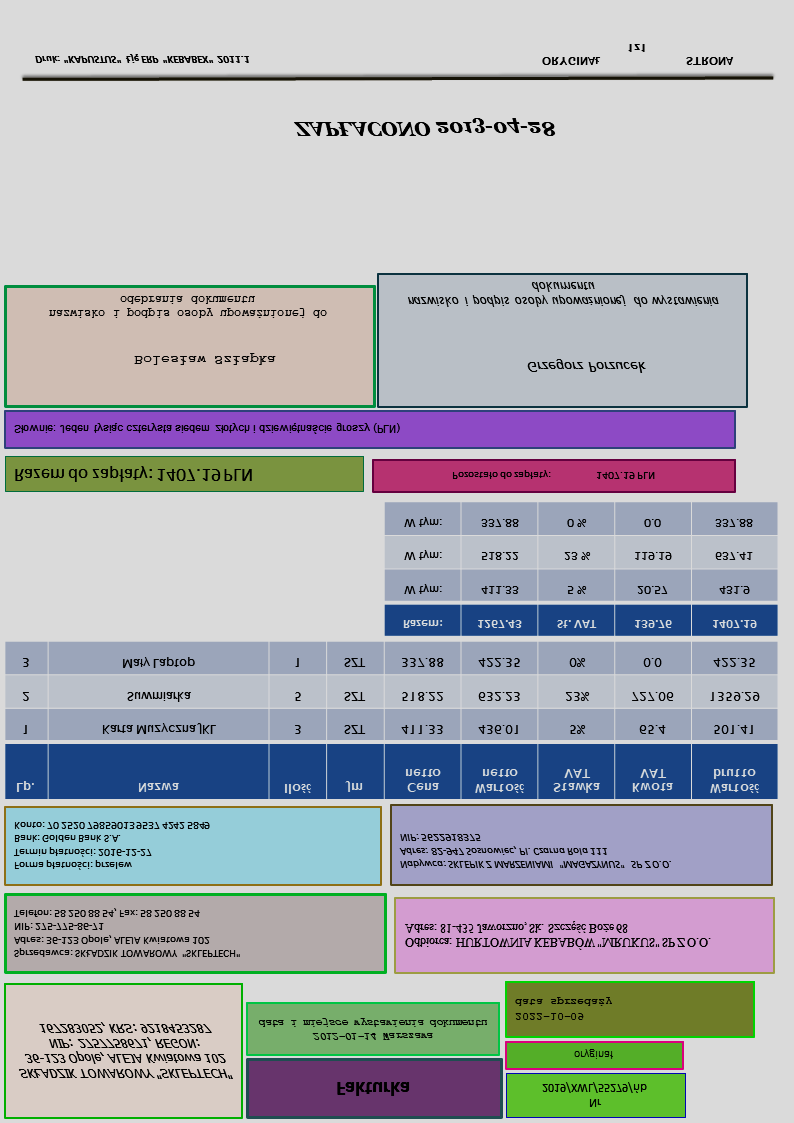Table: (3, 639, 778, 802), (383, 500, 780, 640)
TextBox: (16, 1021, 236, 1083), (11, 906, 243, 963), (397, 829, 674, 873), (10, 818, 212, 875), (401, 920, 713, 954), (405, 277, 721, 310), (45, 294, 330, 322), (290, 113, 558, 142), (256, 1015, 490, 1044), (11, 421, 402, 438), (538, 39, 738, 71), (10, 464, 254, 487), (32, 51, 252, 69), (448, 467, 658, 485), (539, 1079, 647, 1113), (511, 993, 615, 1024), (130, 349, 276, 371), (524, 358, 648, 377), (332, 1078, 412, 1100), (571, 1047, 616, 1062)
